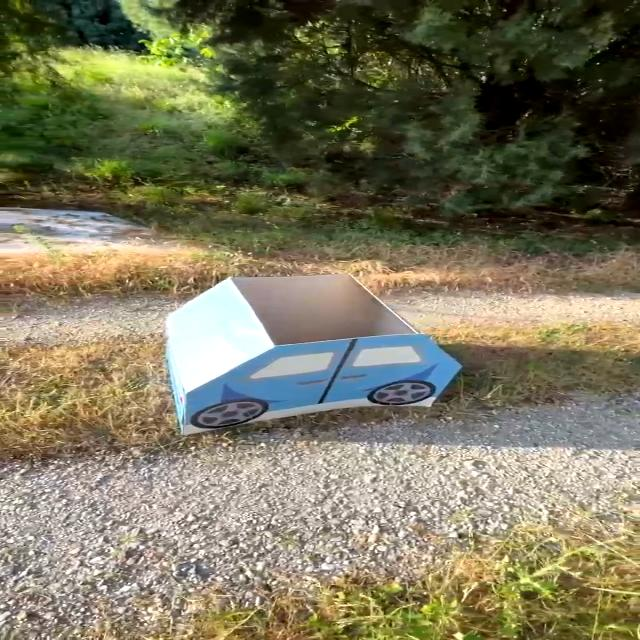blue_car: (97, 252, 519, 448)
